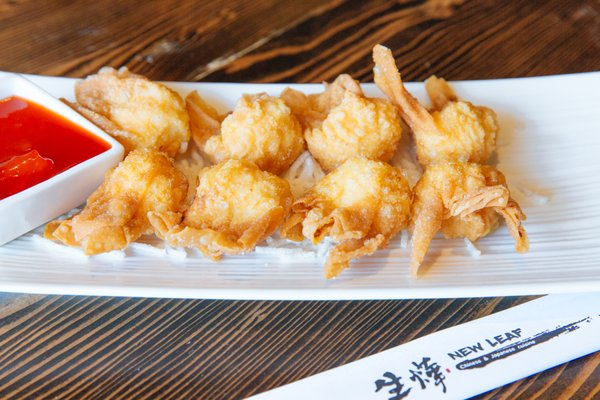sushi: (0, 75, 123, 249)
